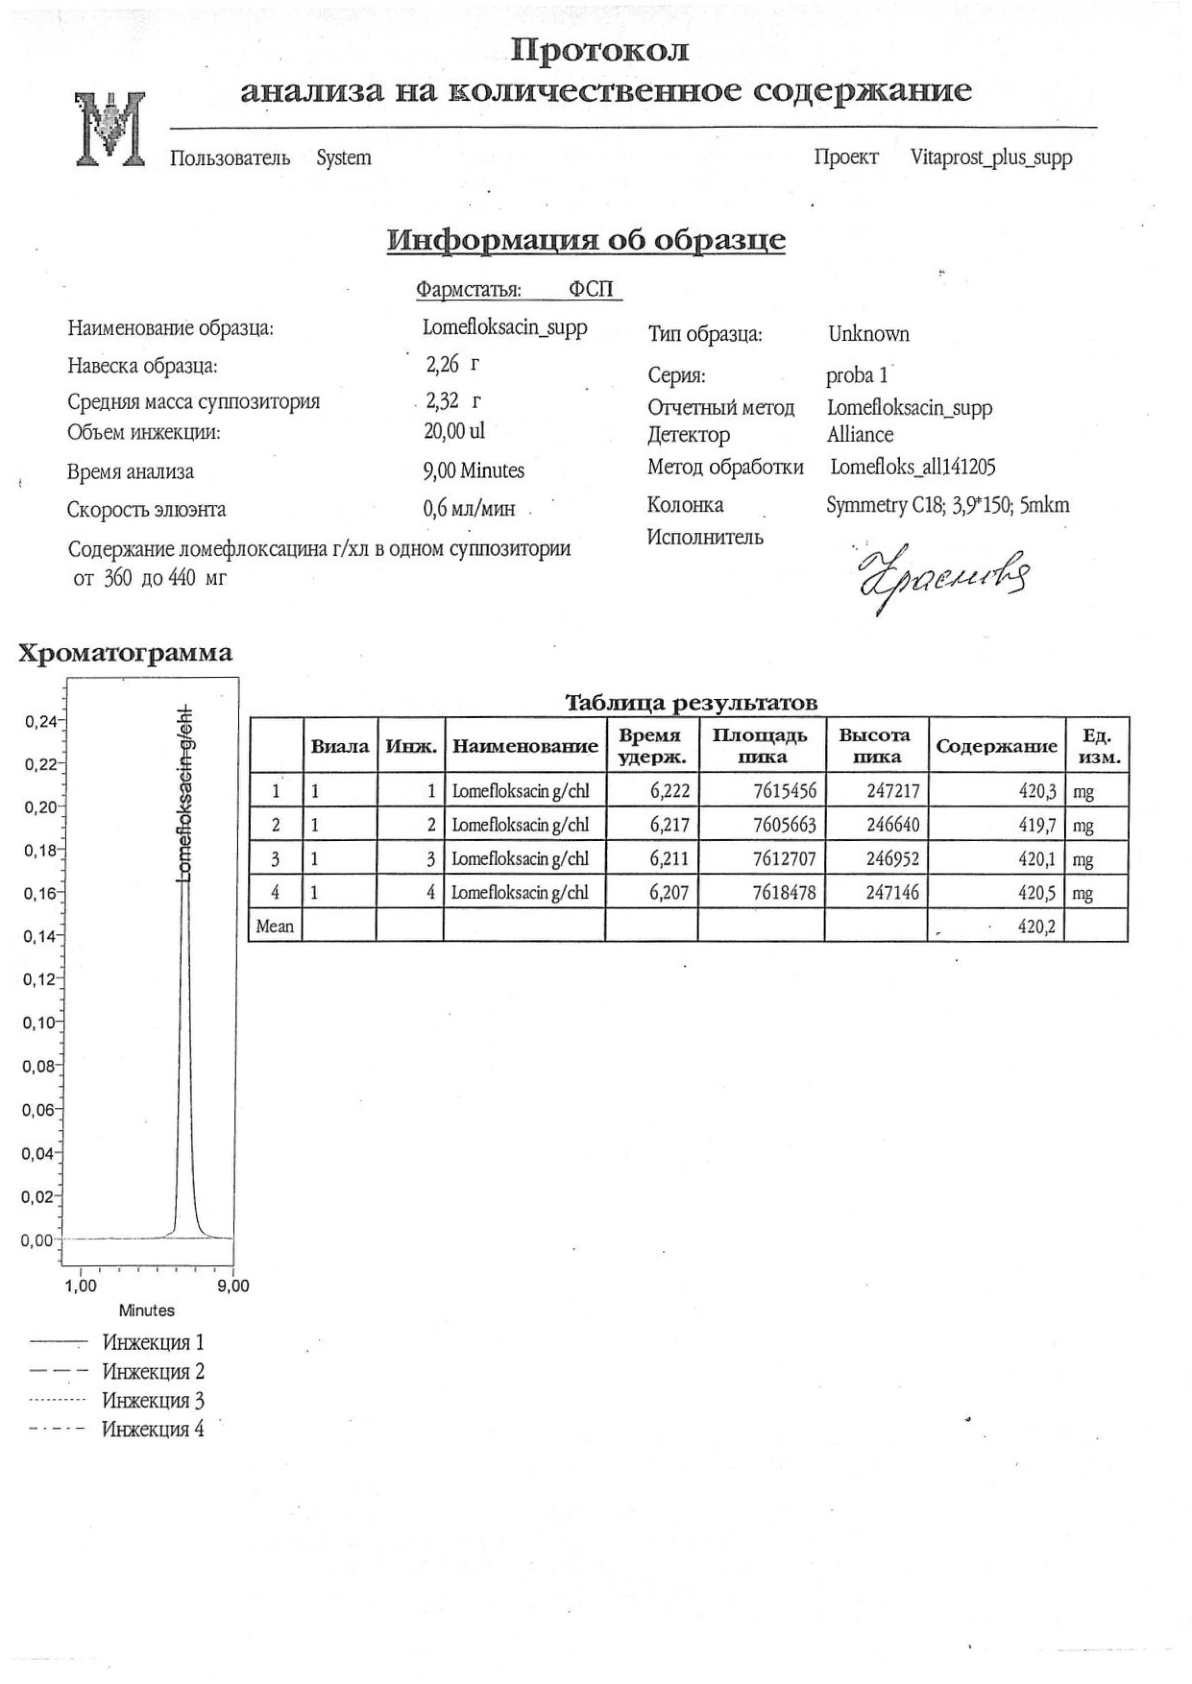full_lined: (246, 716, 1130, 943)
nolines: (59, 315, 1076, 618)
